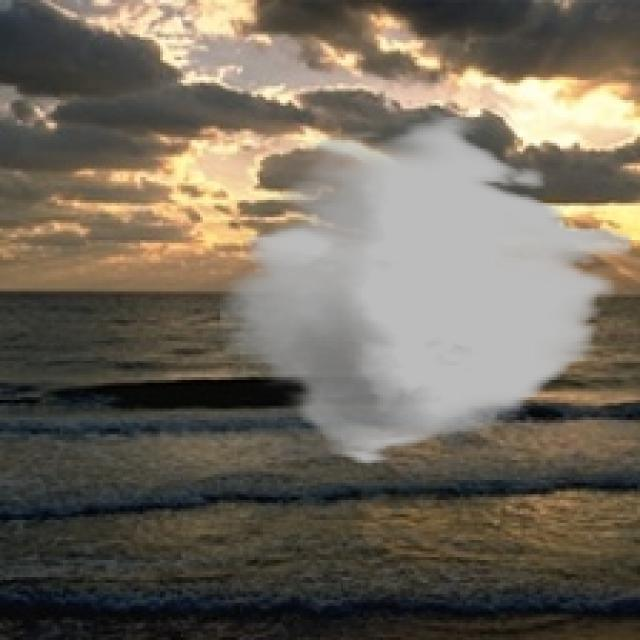Smoke: (219, 114, 632, 466)
